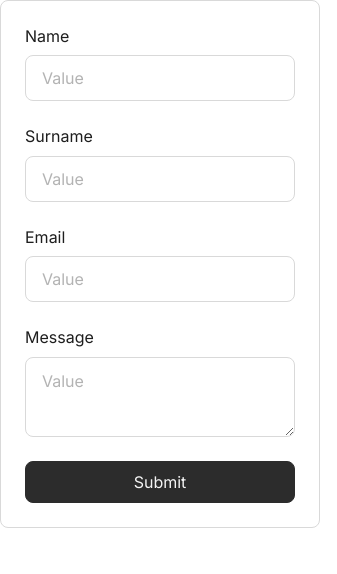
Test: ContactForm › 不正なemailでblurするとemailエラーが表示される
Type "invalid-email" into the field labelled "Email" at (160,279), box [25,256,295,302]
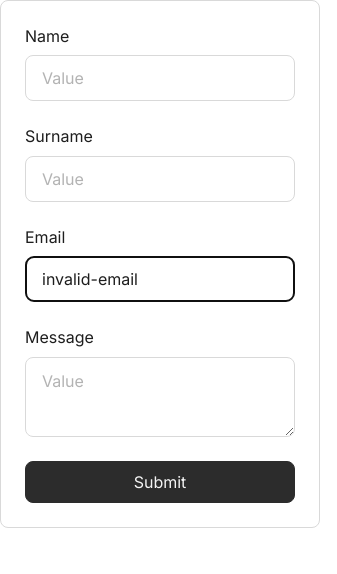
Press Tab
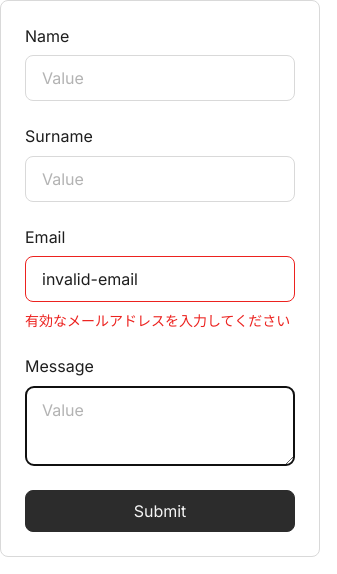
Check: the text "有効なメールアドレスを入力してください" is shown, box [25,310,290,331]
